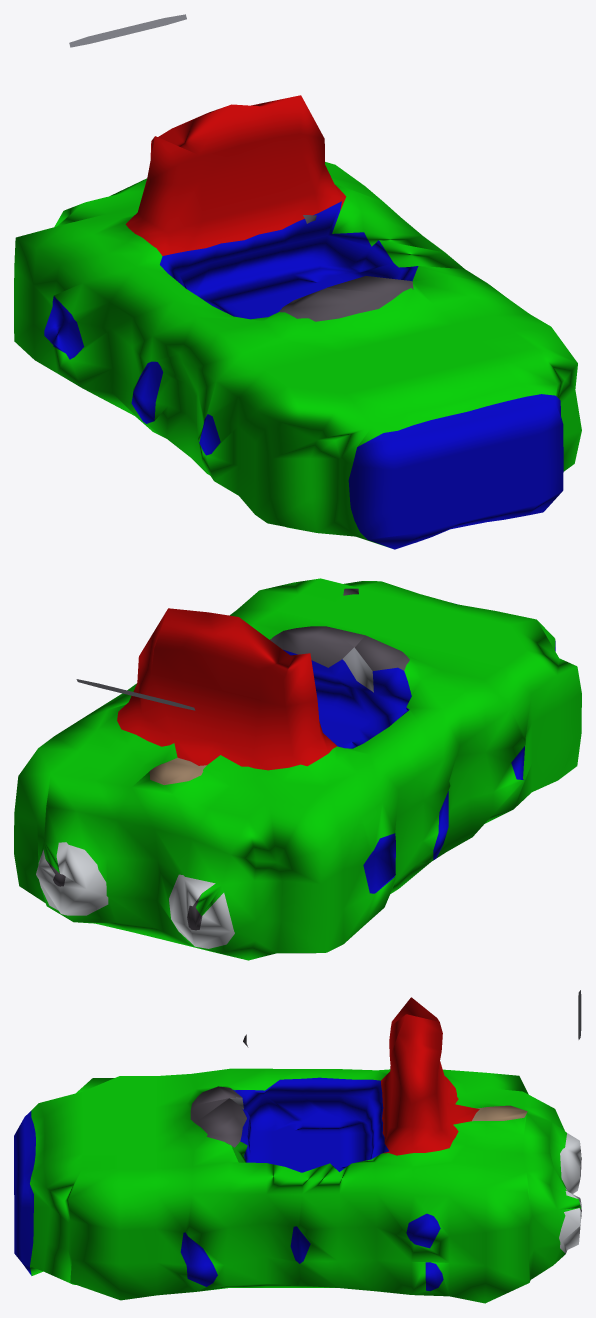
File: body_coffin_lo.glb
3 views of the same model, one above another, from view 1: azimuth 30°, elevation 25°; view 2: azimuth 150°, elevation 25°; view 3: azimuth 270°, elevation 25° (orthographic). The views are drawn at different scales.
Parts seen in each view (by area): view 1: body_coffin_lo; view 2: body_coffin_lo; view 3: body_coffin_lo.
Boxes of the visible parts, box(x1,y1,x2,y2) form: body_coffin_lo: box(14, 14, 581, 549); body_coffin_lo: box(14, 578, 581, 960); body_coffin_lo: box(14, 990, 581, 1303).
Size of the model in its own units: 24.14 by 18.18 by 40.72.
